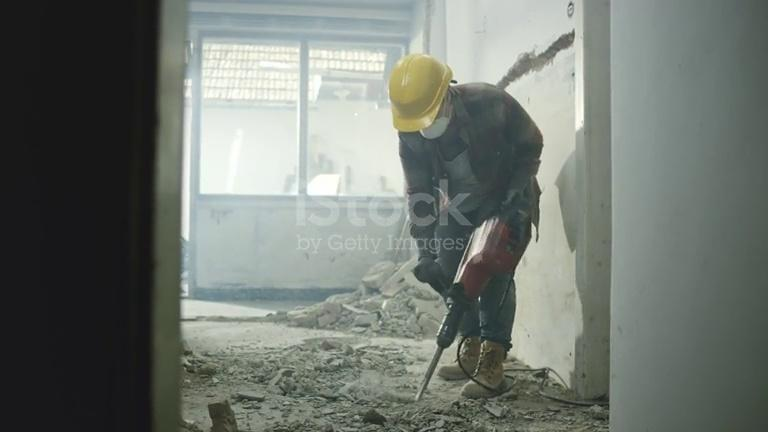helmet: (389, 53, 452, 133)
mask: (419, 117, 447, 139)
person: (388, 51, 547, 401)
